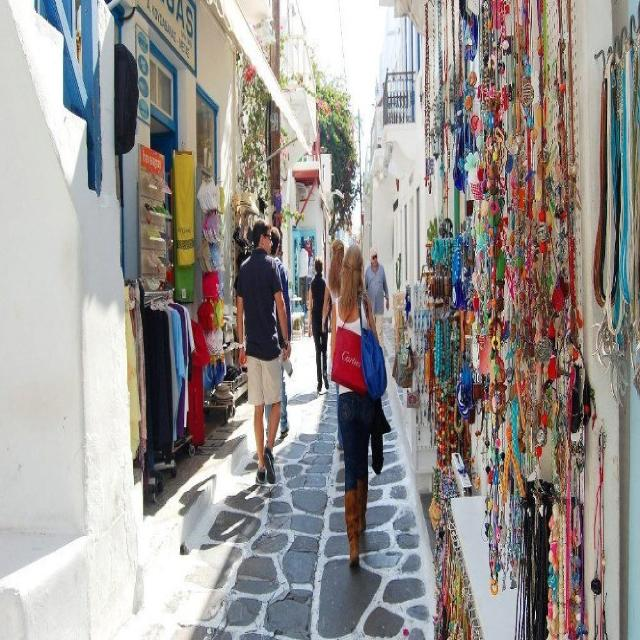body: (328, 242, 392, 572), (234, 216, 294, 487), (264, 225, 292, 439), (306, 254, 332, 395), (322, 237, 348, 357), (364, 245, 389, 349), (296, 238, 314, 312)
